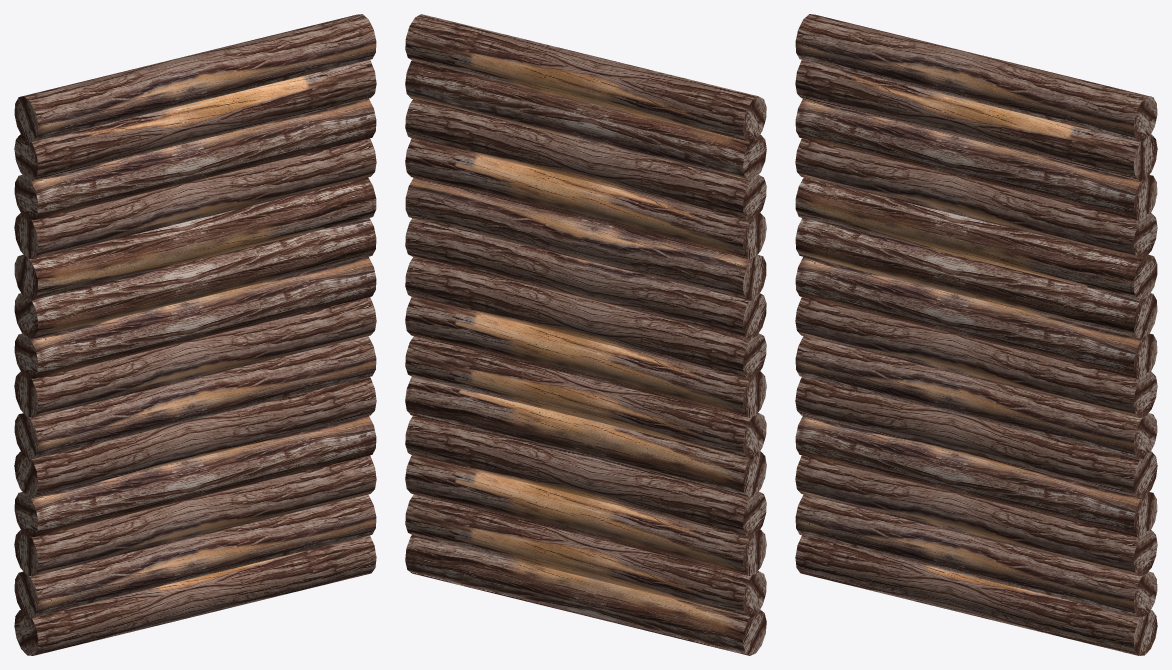
The picture shows the model from 3 angles, left to right: view 1: azimuth 30°, elevation 25°; view 2: azimuth 150°, elevation 25°; view 3: azimuth 330°, elevation 25°; orthographic projection.
Visible parts, largest first — view 1: Cylinder191, Cylinder184, Cylinder181, Cylinder188, Cylinder185, Cylinder189, Cylinder182, Cylinder186, Cylinder190, Cylinder194, Cylinder187, Cylinder183 (+2 smaller); view 2: Cylinder191, Cylinder181, Cylinder184, Cylinder188, Cylinder185, Cylinder189, Cylinder182, Cylinder183, Cylinder190, Cylinder187, Cylinder186, Cylinder195 (+2 smaller); view 3: Cylinder191, Cylinder181, Cylinder184, Cylinder188, Cylinder185, Cylinder189, Cylinder182, Cylinder186, Cylinder183, Cylinder190, Cylinder194, Cylinder187 (+2 smaller).
Boxes of the visible parts, x1=… form: Cylinder191: x1=14, y1=14, x2=376, y2=142; Cylinder184: x1=14, y1=336, x2=376, y2=459; Cylinder181: x1=14, y1=494, x2=376, y2=617; Cylinder188: x1=14, y1=177, x2=376, y2=300; Cylinder185: x1=14, y1=256, x2=376, y2=379; Cylinder189: x1=14, y1=98, x2=376, y2=220; Cylinder182: x1=14, y1=416, x2=376, y2=537; Cylinder186: x1=14, y1=297, x2=376, y2=417; Cylinder190: x1=14, y1=138, x2=376, y2=259; Cylinder194: x1=14, y1=60, x2=376, y2=180; Cylinder187: x1=14, y1=377, x2=376, y2=497; Cylinder183: x1=14, y1=455, x2=376, y2=576; Cylinder191: x1=405, y1=14, x2=766, y2=142; Cylinder181: x1=405, y1=494, x2=766, y2=617; Cylinder184: x1=405, y1=336, x2=766, y2=459; Cylinder188: x1=405, y1=177, x2=766, y2=300; Cylinder185: x1=405, y1=257, x2=766, y2=379; Cylinder189: x1=405, y1=99, x2=766, y2=221; Cylinder182: x1=405, y1=415, x2=766, y2=537; Cylinder183: x1=405, y1=455, x2=766, y2=575; Cylinder190: x1=405, y1=138, x2=766, y2=259; Cylinder187: x1=405, y1=377, x2=766, y2=497; Cylinder186: x1=405, y1=297, x2=766, y2=417; Cylinder195: x1=405, y1=218, x2=766, y2=339; Cylinder191: x1=795, y1=14, x2=1157, y2=141; Cylinder181: x1=795, y1=494, x2=1157, y2=617; Cylinder184: x1=795, y1=336, x2=1157, y2=459; Cylinder188: x1=795, y1=177, x2=1157, y2=300; Cylinder185: x1=795, y1=256, x2=1157, y2=379; Cylinder189: x1=795, y1=98, x2=1157, y2=220; Cylinder182: x1=795, y1=416, x2=1157, y2=537; Cylinder186: x1=795, y1=297, x2=1157, y2=417; Cylinder183: x1=795, y1=455, x2=1157, y2=576; Cylinder190: x1=795, y1=138, x2=1157, y2=259; Cylinder194: x1=795, y1=60, x2=1157, y2=180; Cylinder187: x1=795, y1=377, x2=1157, y2=497.
Bounding box in the file's own units: 124 × 15.27 × 196.
